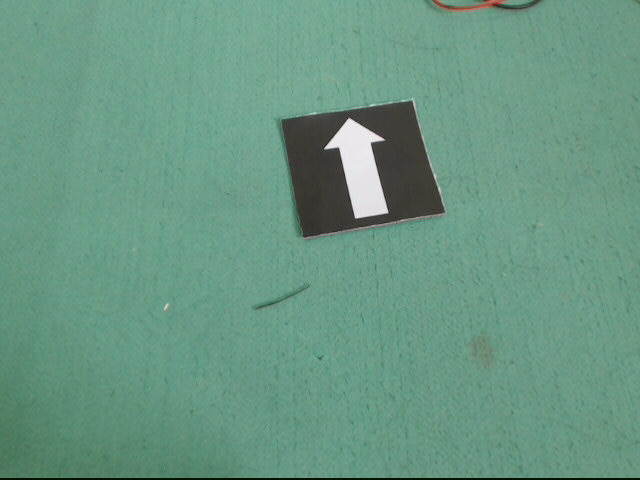straight: (282, 99, 447, 239)
